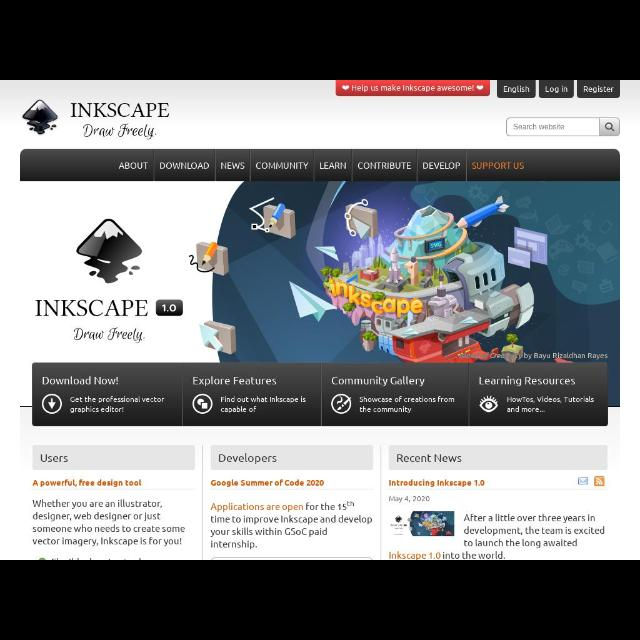button: (600, 118, 618, 136)
icon: (42, 394, 62, 414), (193, 394, 213, 414), (331, 394, 351, 414), (479, 395, 499, 413), (604, 122, 614, 132), (476, 85, 484, 91), (342, 84, 348, 90)
image: (26, 182, 618, 408), (23, 99, 170, 141), (389, 512, 453, 534), (576, 478, 588, 484), (595, 477, 603, 485)
input: (388, 446, 606, 472), (212, 445, 374, 469), (34, 446, 196, 469), (507, 118, 599, 136)
multitab: (21, 149, 620, 179)
text: (212, 502, 371, 548), (33, 499, 185, 547), (463, 513, 605, 547), (358, 394, 454, 416), (70, 396, 164, 414), (220, 396, 308, 414), (506, 395, 594, 413), (332, 374, 426, 388), (192, 374, 278, 388), (478, 376, 576, 388), (42, 374, 120, 388), (388, 478, 486, 488), (210, 478, 324, 486), (32, 479, 142, 486), (352, 86, 474, 92), (388, 552, 507, 558), (218, 452, 276, 464), (398, 454, 460, 464), (512, 122, 566, 132), (471, 162, 524, 172), (255, 161, 309, 169), (358, 162, 412, 170), (159, 162, 209, 170), (388, 495, 430, 503), (422, 162, 461, 170), (584, 85, 614, 94), (42, 454, 68, 464), (118, 162, 150, 170), (544, 85, 568, 95), (501, 86, 529, 94), (319, 162, 345, 170), (220, 162, 244, 170)
textbutton: (498, 80, 534, 98), (577, 82, 619, 96), (540, 81, 574, 97)
